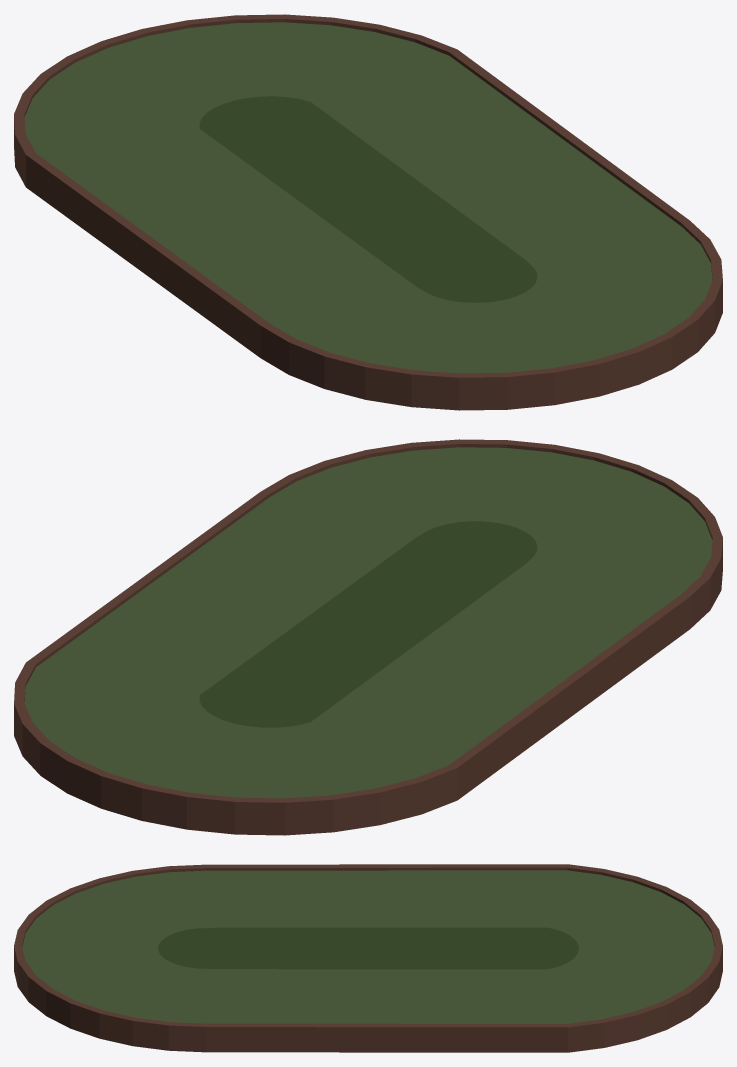
Rendered from Table.fbx.
The picture shows the model from 3 angles, top to bottom: view 1: azimuth 30°, elevation 25°; view 2: azimuth 150°, elevation 25°; view 3: azimuth 270°, elevation 25°; orthographic projection. The views are drawn at different scales.
Visible parts, largest first — view 1: Cylinder; view 2: Cylinder; view 3: Cylinder.
Part boxes in pixels (x1=…): Cylinder: x1=14, y1=14, x2=722, y2=410; Cylinder: x1=14, y1=439, x2=722, y2=835; Cylinder: x1=14, y1=864, x2=722, y2=1052.
Size of the model in its own units: 201 by 14.53 by 369.
